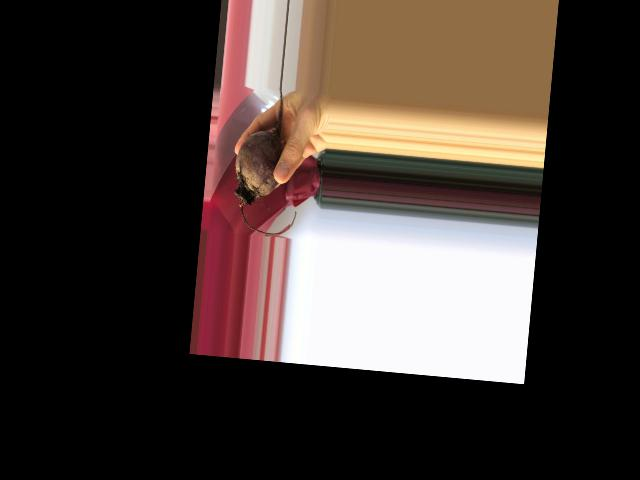beet: (229, 86, 307, 237)
